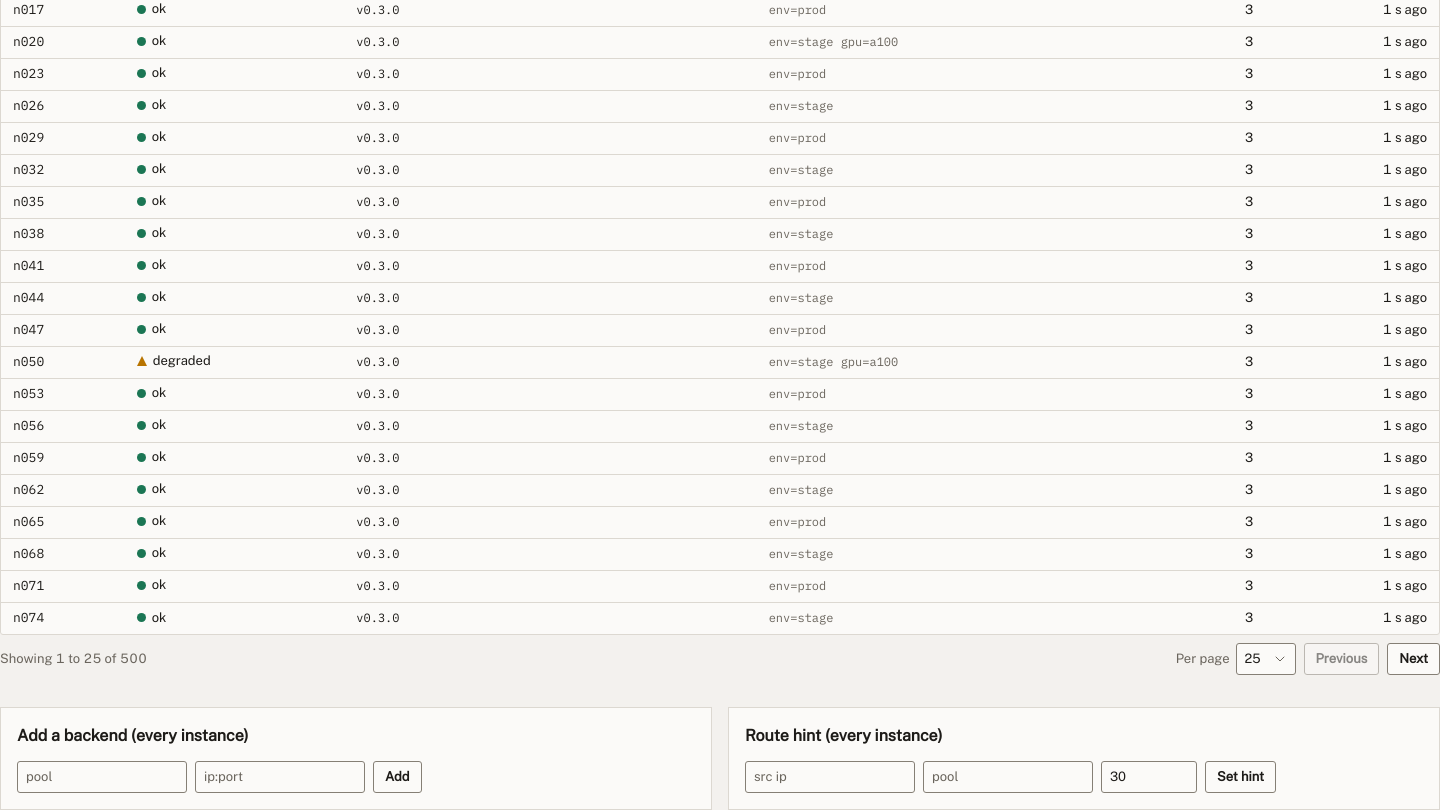
Test: Fleet page with 500 nodes › pages on the server and keeps the page in the URL
(page scrolled)
Expected: the text "Showing 1 to 25 of 500" is shown, [0,650,147,668]
Click the button "Next".
click(1414, 659)  # box [1387,643,1439,675]
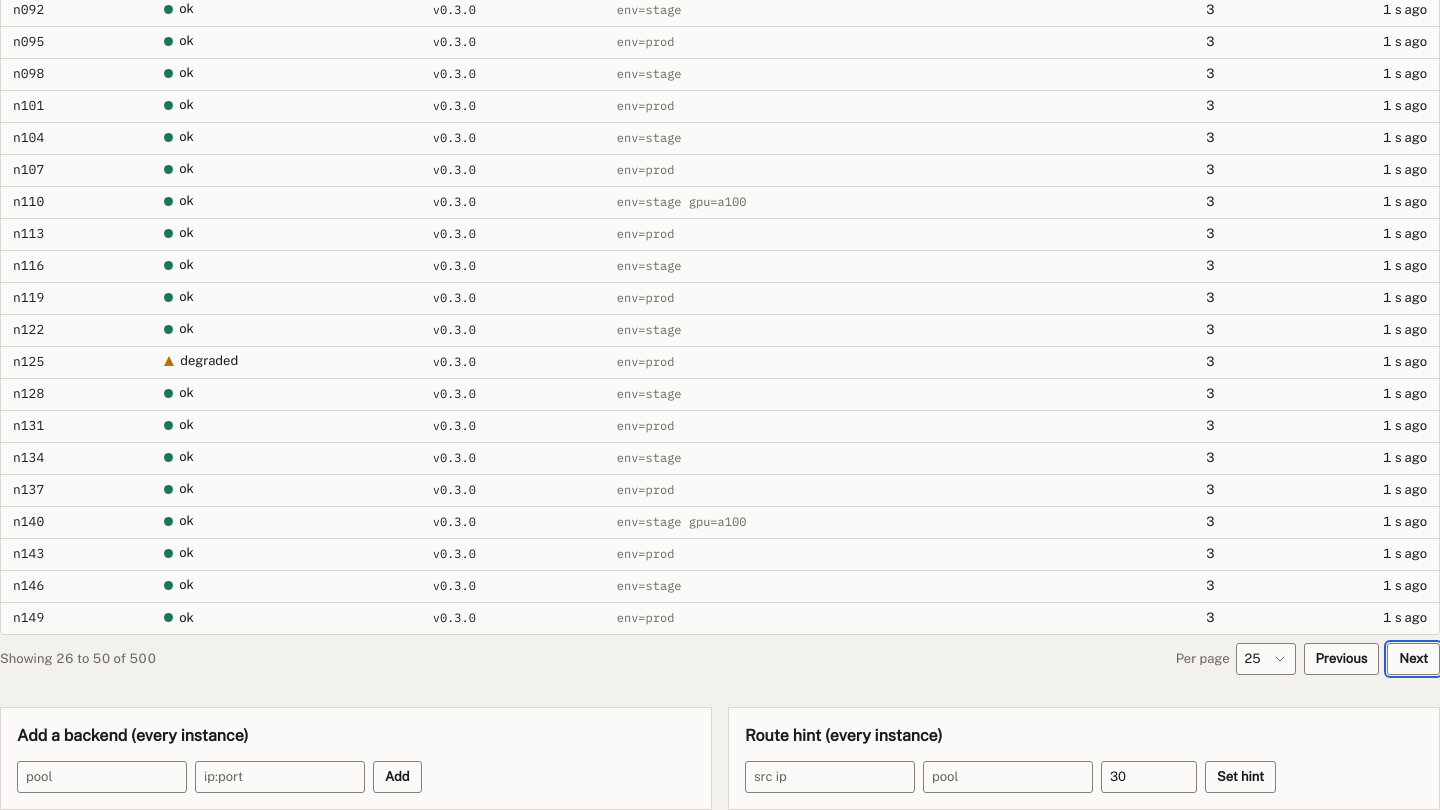
Result: the text "Showing 26 to 50 of 500" is shown at [0,650,156,668]
Select "100" in the dropdown labelled "Per page" at [1266, 659], box [1236,643,1296,675]
(page scrolled)
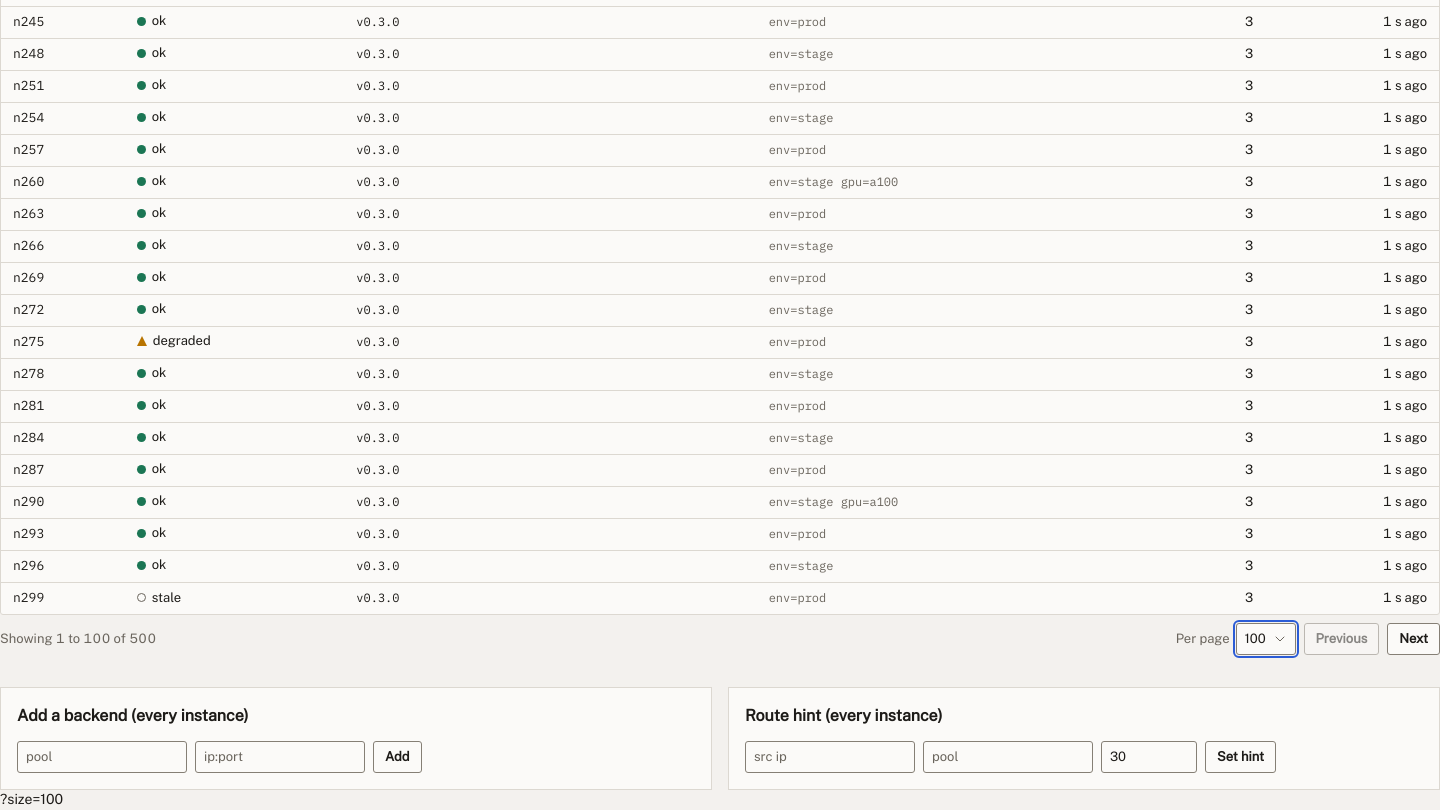
Result: the text "Showing 1 to 100 of 500" is shown at [0,630,156,648]
